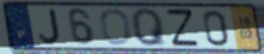0: (201, 8, 232, 48)
6: (67, 7, 96, 47)
J: (38, 8, 62, 44)
O: (99, 8, 133, 47)
Q: (130, 7, 169, 48)
Z: (164, 8, 201, 48)
